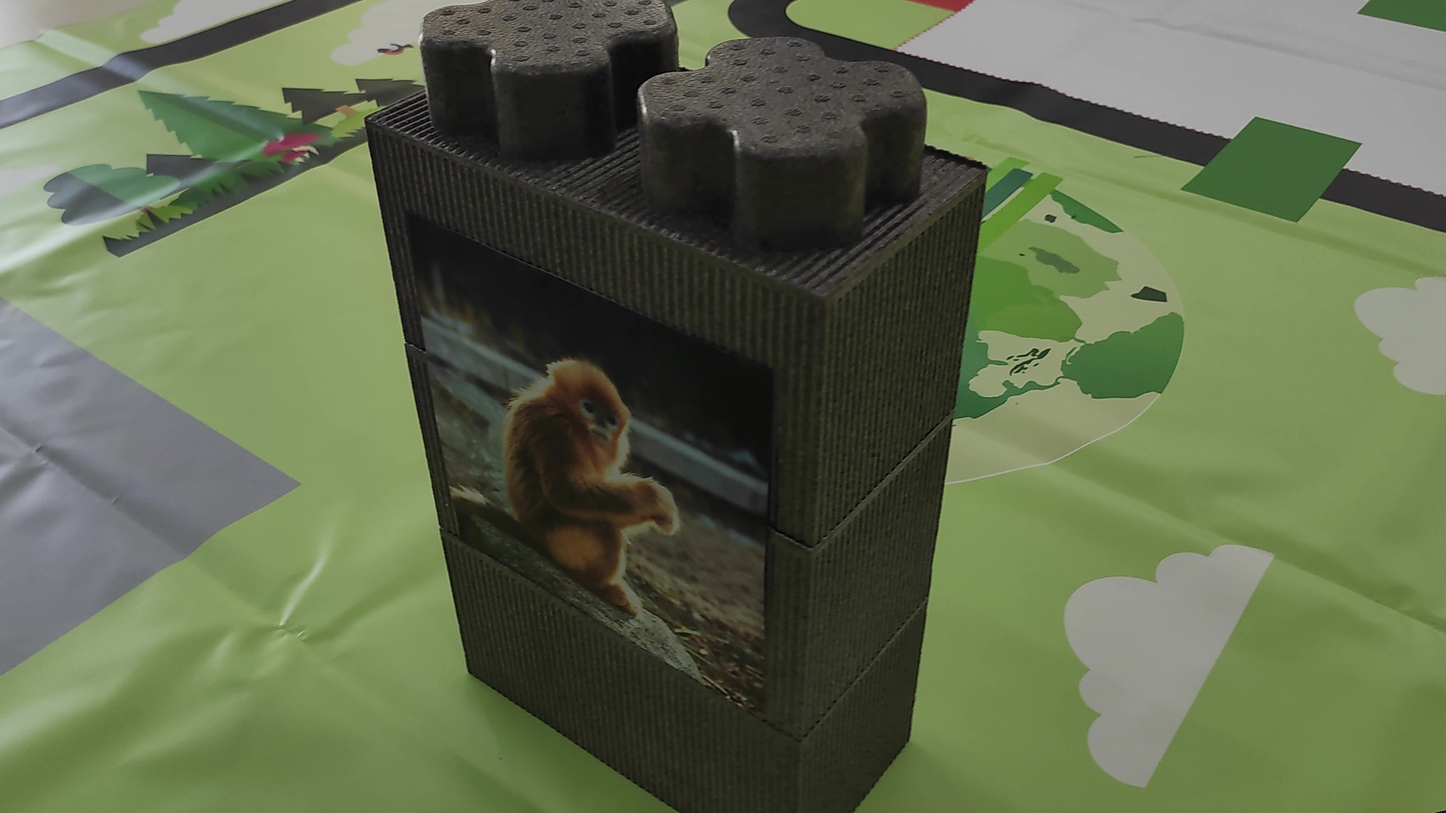monkey: (466, 332, 735, 637)
